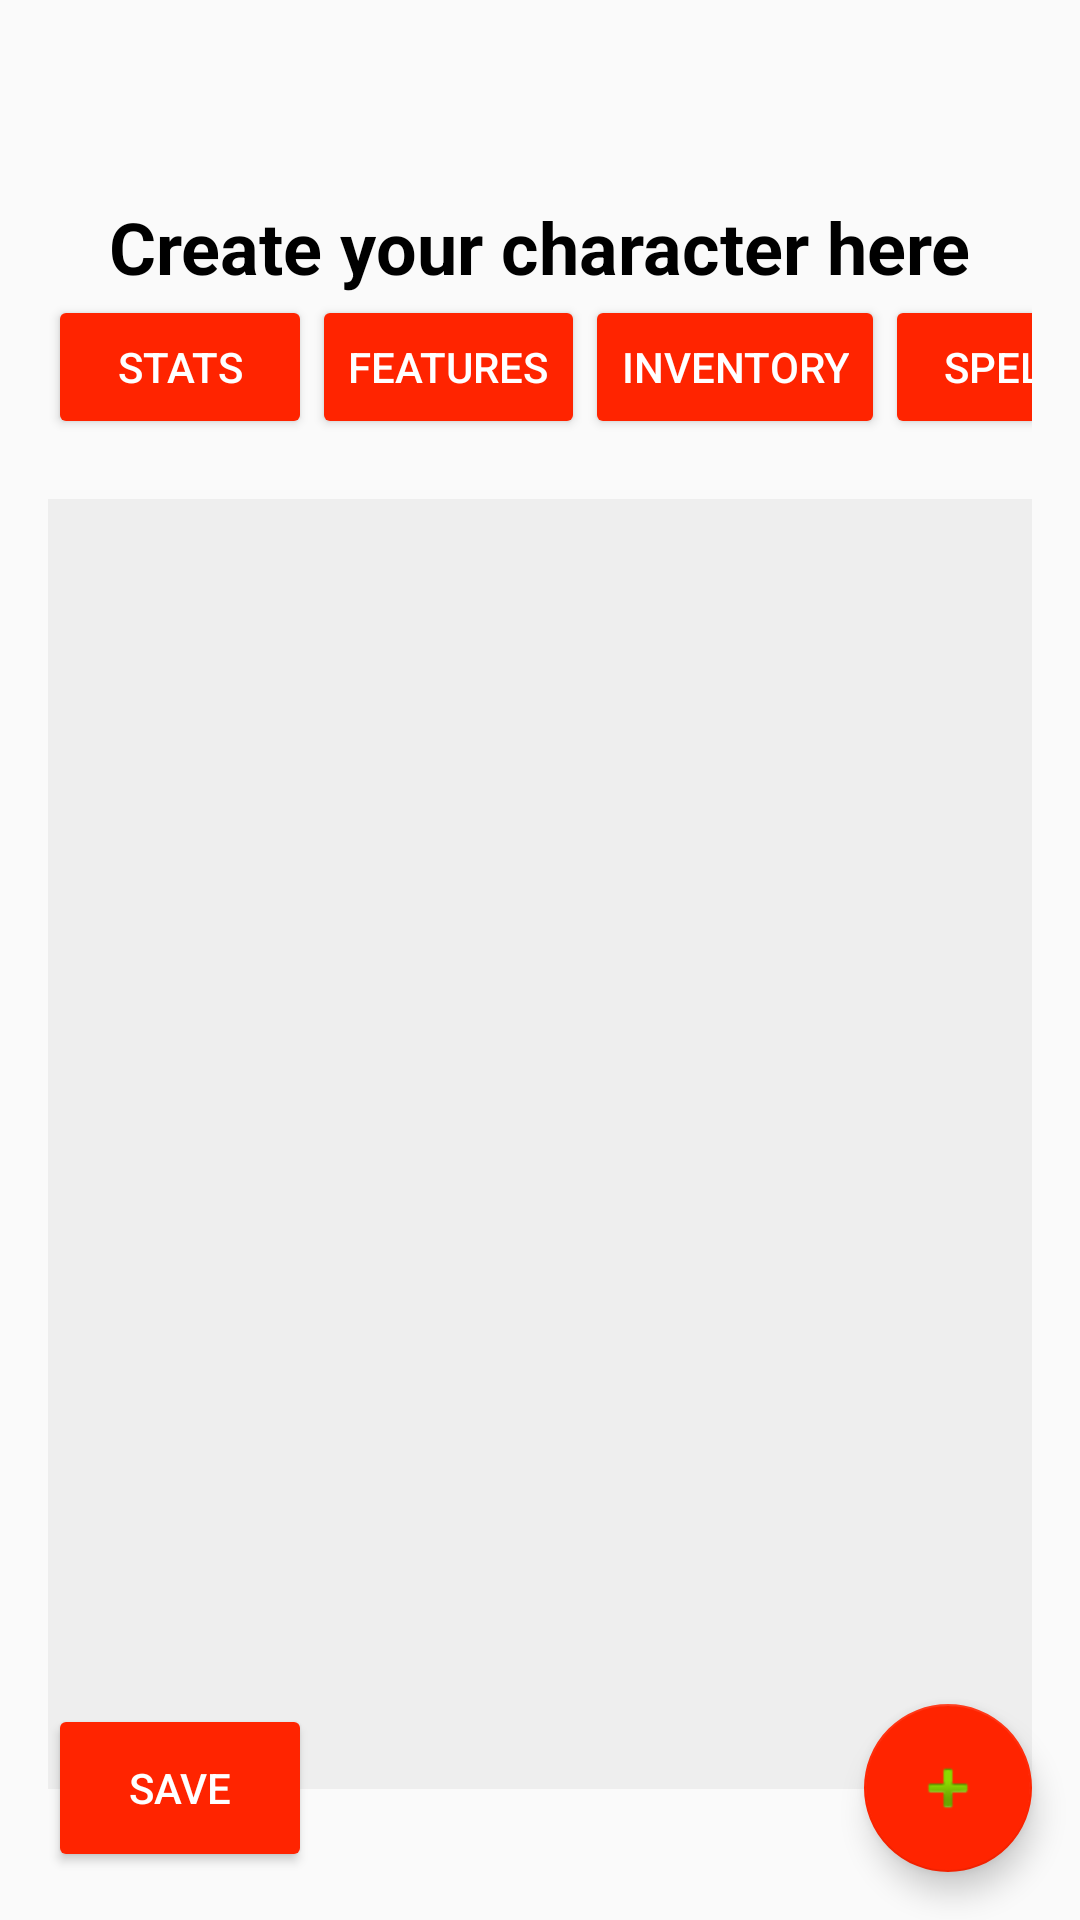

Point at icon controls on the screen. Image size 1080px×1920px, points as [x,y].
Add Description: [948,1788]
